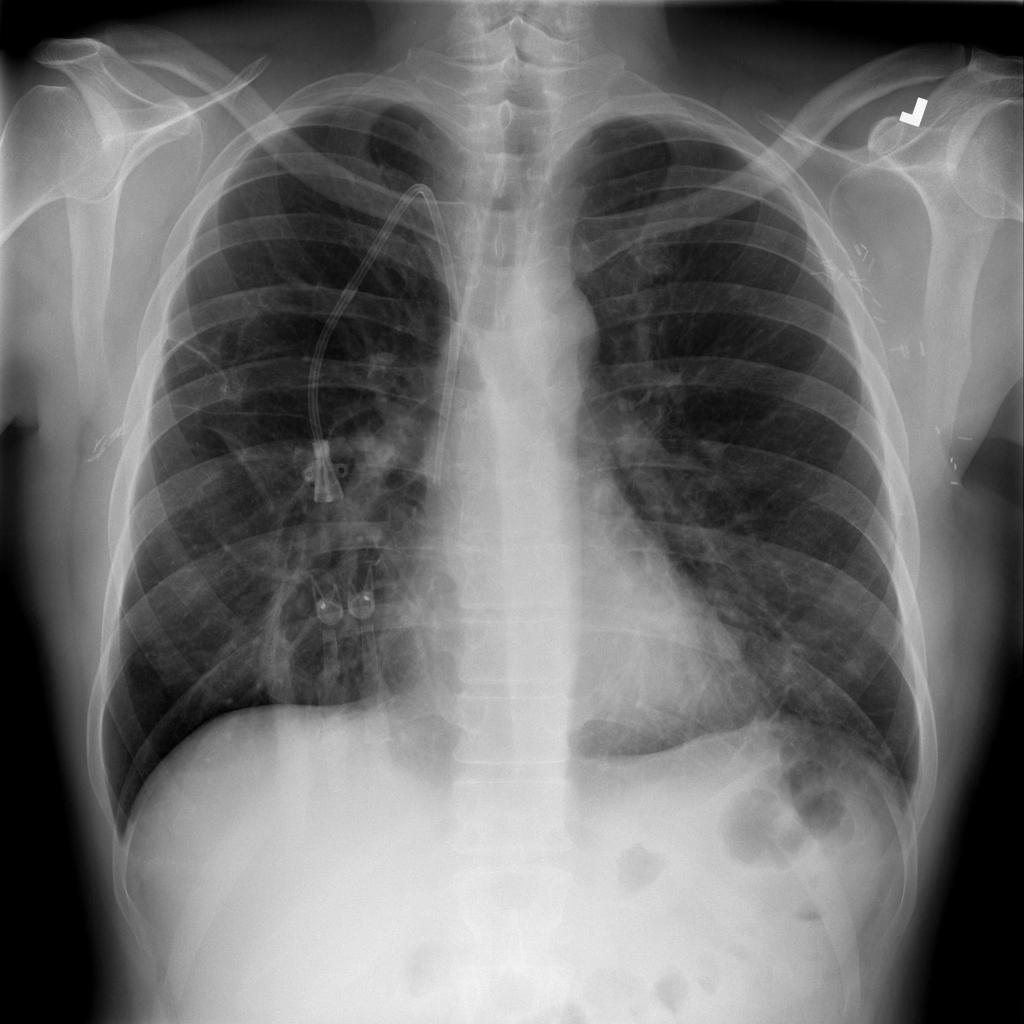nodule: (819, 630, 889, 702)
